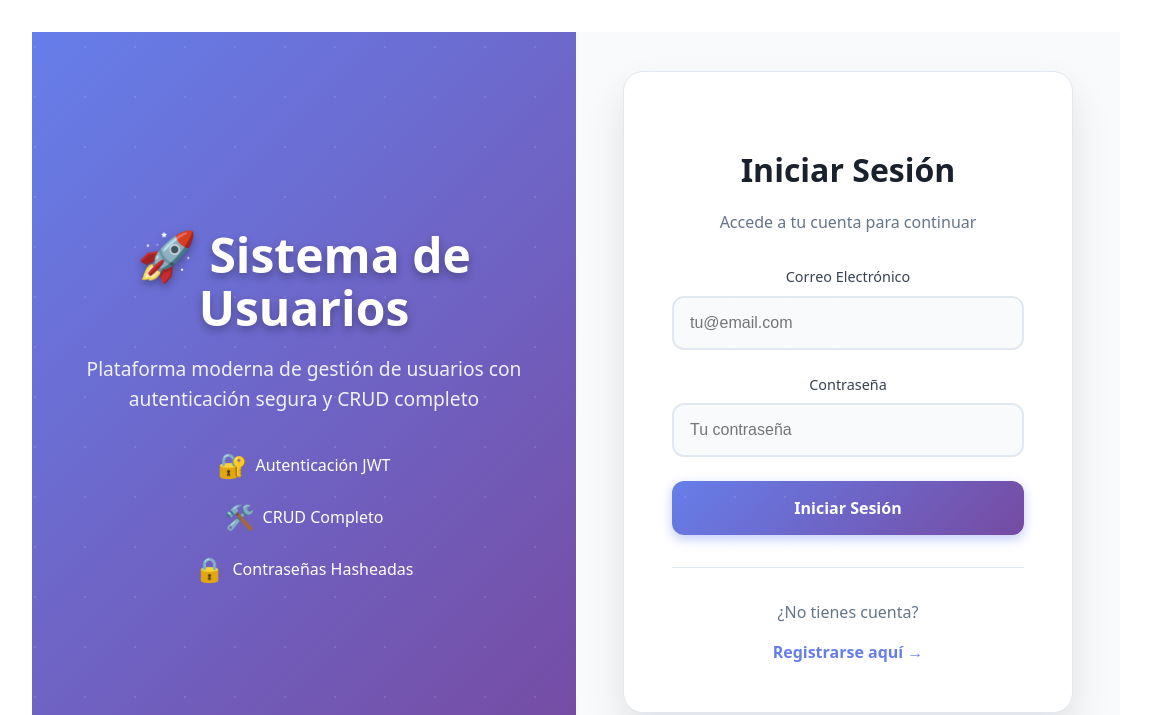
Test case: Login Component › muestra mensaje de error cuando el login falla
The width and height of the screenshot is (1152, 715).
Type "test@test.com" into the field labelled "Correo Electrónico".
click(848, 323); type("test@test.com")  # box [672, 296, 1024, 350]
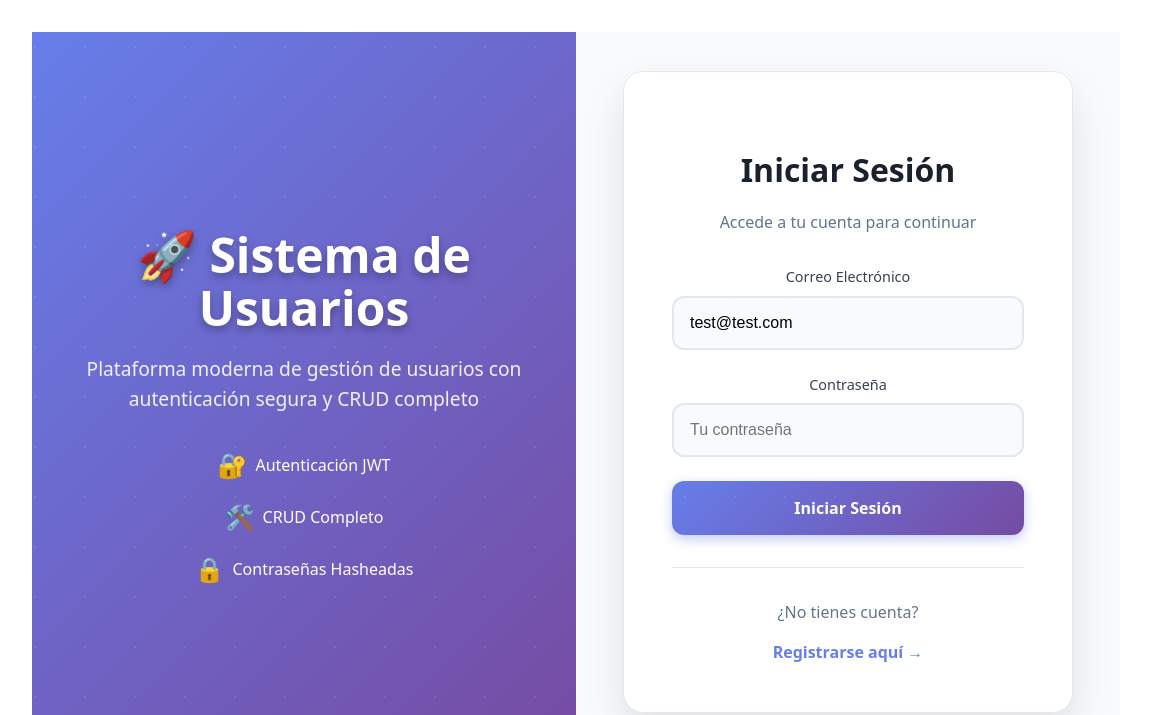
Type "wrongpassword" into the password field labelled "Contraseña".
click(848, 430); type("wrongpassword")  # box [672, 403, 1024, 457]
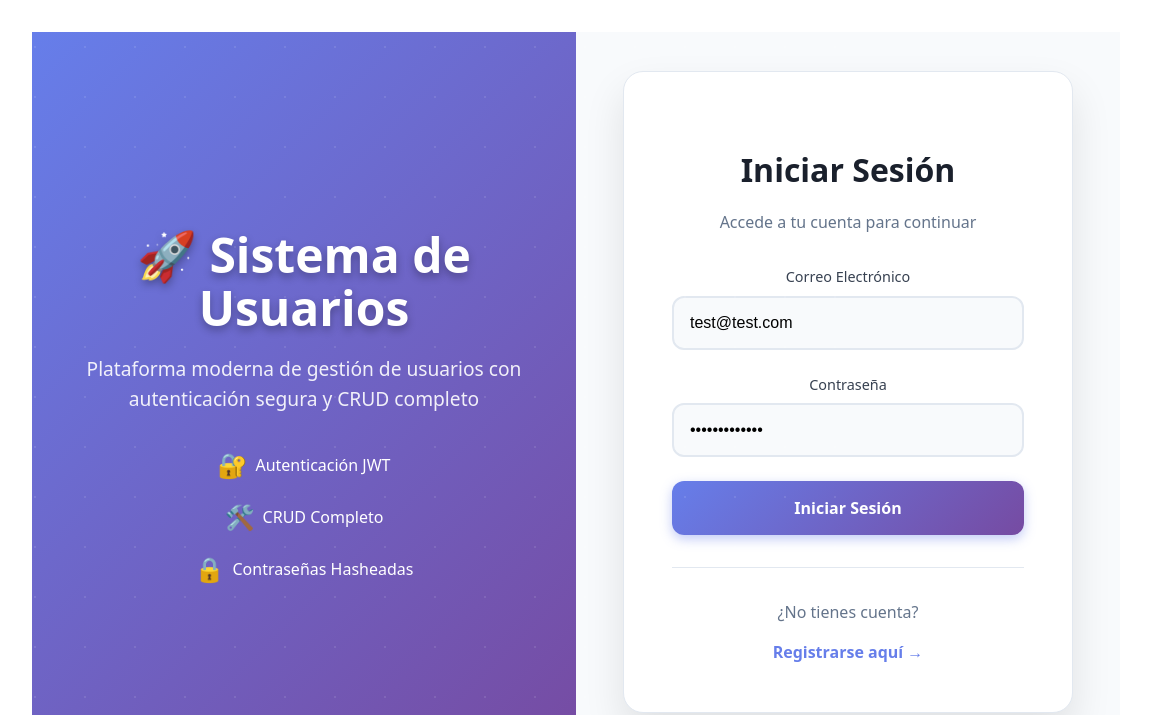
Click the button "Iniciar Sesión".
click(848, 508)  # box [672, 481, 1024, 535]
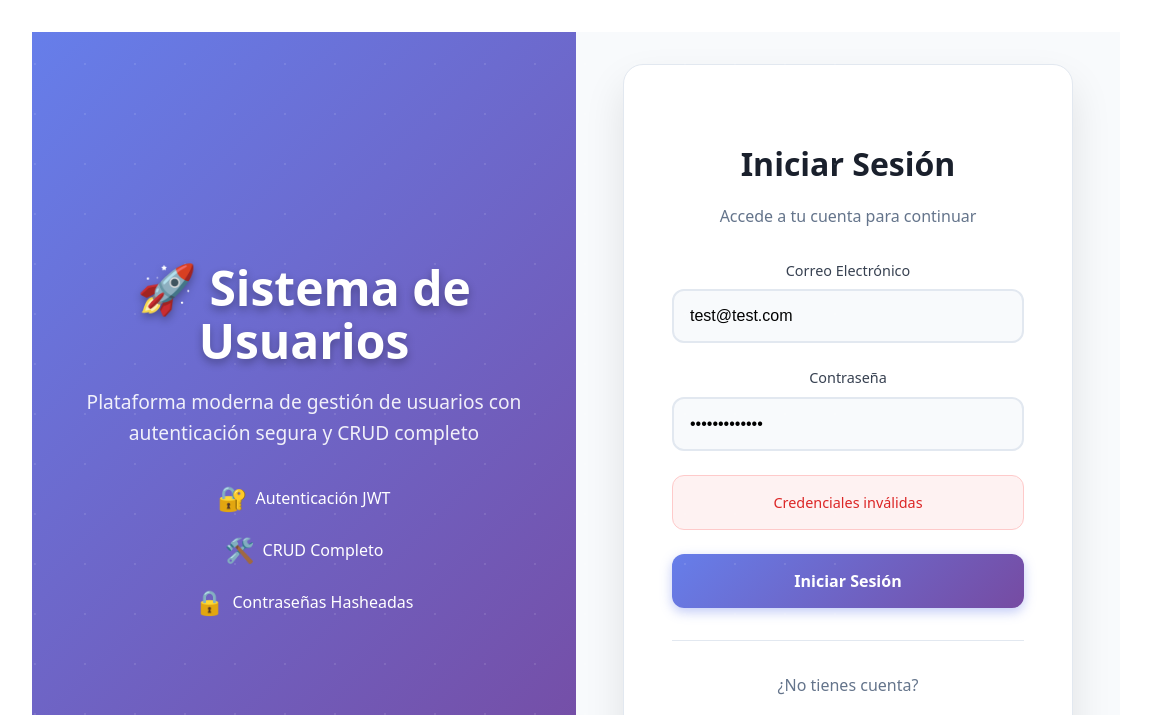
Result: the text "Credenciales inválidas" is shown at [672, 475, 1024, 530]
